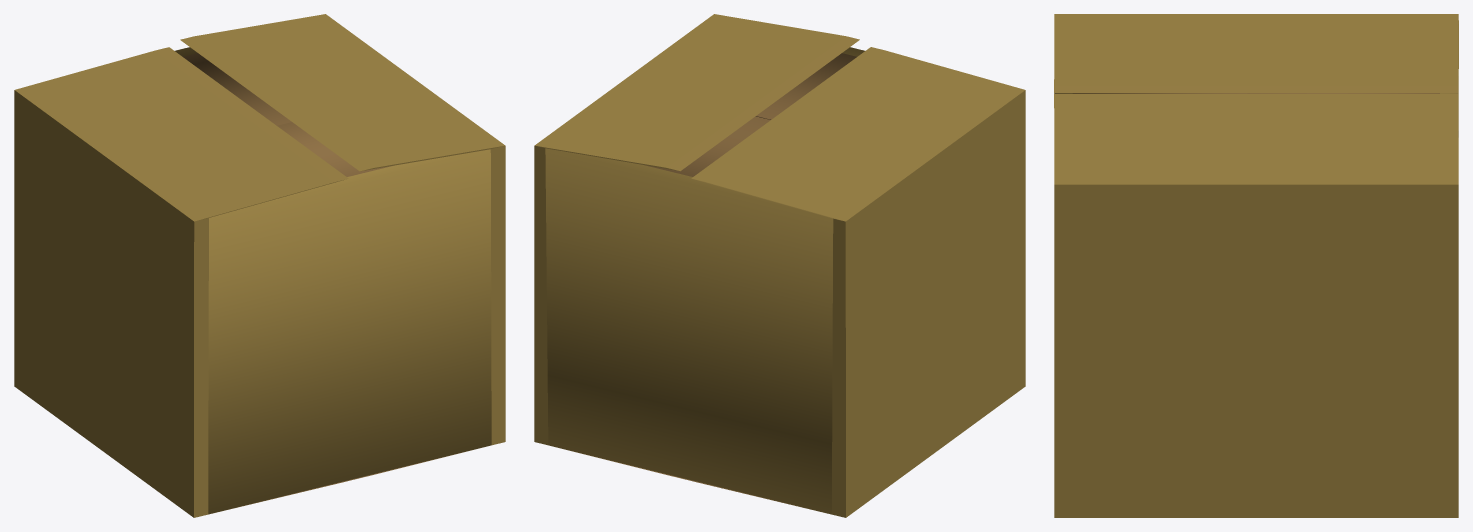
Rendered from Cardboard.fbx.
The picture shows the model from 3 angles, left to right: view 1: azimuth 30°, elevation 25°; view 2: azimuth 150°, elevation 25°; view 3: azimuth 270°, elevation 25°; orthographic projection. The views are drawn at different scales.
Visible parts, largest first — view 1: pCube1; view 2: pCube1; view 3: pCube1.
Boxes of the visible parts, x1,y1,x2,y2 form: pCube1: (14, 14, 505, 517); pCube1: (534, 14, 1025, 517); pCube1: (1054, 14, 1458, 517).
Size of the model in its own units: 11.01 by 10.4 by 11.01.
